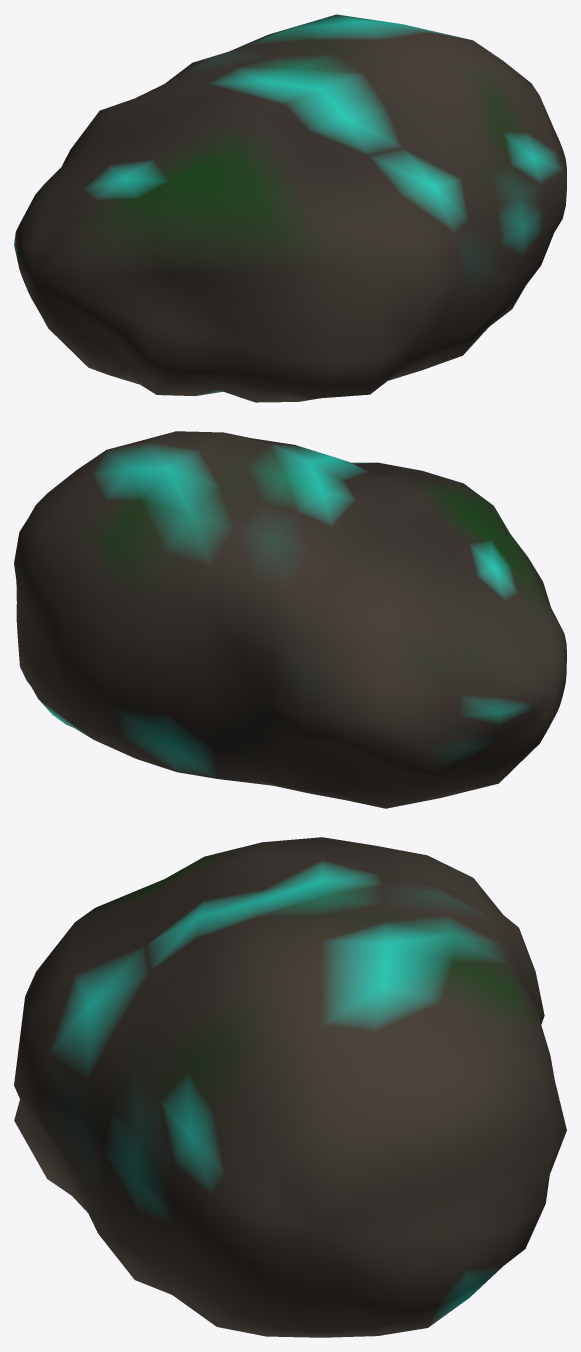
Rendered from roca_lecho.fbx.
The picture shows the model from 3 angles, top to bottom: view 1: azimuth 30°, elevation 25°; view 2: azimuth 150°, elevation 25°; view 3: azimuth 270°, elevation 25°; orthographic projection. The views are drawn at different scales.
Visible parts, largest first — view 1: roca_lecho; view 2: roca_lecho; view 3: roca_lecho.
Part boxes in pixels (x1,y1,x2,y2): roca_lecho: (14,14,566,402); roca_lecho: (14,431,566,808); roca_lecho: (14,837,566,1337).
Bounding box in the file's own units: 100 × 73.71 × 49.6.
